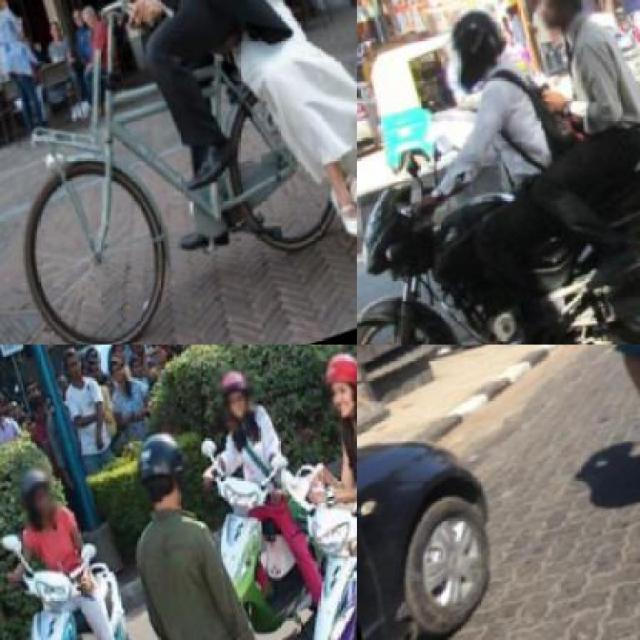With Helmet: (428, 2, 526, 102), (127, 416, 211, 518), (12, 458, 77, 536), (211, 358, 272, 432), (310, 345, 356, 437)
Without Helmet: (526, 0, 605, 45)
